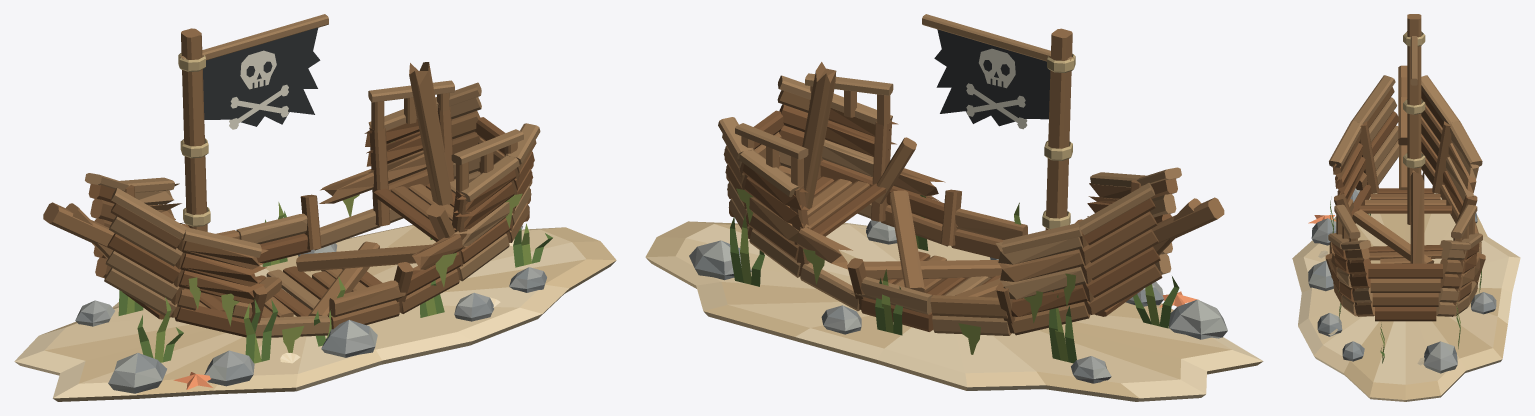
The model's file is PirateShipwreck.fbx.
3 renders of one model, left to right at view 1: azimuth 30°, elevation 25°; view 2: azimuth 150°, elevation 25°; view 3: azimuth 270°, elevation 25°, orthographic. The views are drawn at different scales.
Parts seen in each view (by area): view 1: Shipwreck_Hull, Shipwreck_Sand, Shipwreck_Flag, Shipwreck_Mast, Shipwreck_Rock, Shipwreck_Seaweed, Shipwreck_Moss; view 2: Shipwreck_Hull, Shipwreck_Sand, Shipwreck_Flag, Shipwreck_Mast, Shipwreck_Rock, Shipwreck_Seaweed, Shipwreck_Moss; view 3: Shipwreck_Hull, Shipwreck_Sand, Shipwreck_Mast, Shipwreck_Rock, Shipwreck_Flag, Shipwreck_Seaweed.
Part boxes in pixels (x1,y1,x2,y2): Shipwreck_Hull: (43, 80, 540, 338); Shipwreck_Sand: (14, 225, 616, 401); Shipwreck_Flag: (180, 14, 328, 129); Shipwreck_Mast: (178, 28, 453, 231); Shipwreck_Rock: (75, 225, 546, 393); Shipwreck_Seaweed: (118, 202, 552, 363); Shipwreck_Moss: (188, 141, 522, 352); Shipwreck_Hull: (718, 73, 1224, 335); Shipwreck_Sand: (645, 221, 1263, 401); Shipwreck_Flag: (922, 14, 1073, 129); Shipwreck_Mast: (802, 28, 1075, 229); Shipwreck_Rock: (689, 220, 1227, 383); Shipwreck_Seaweed: (730, 195, 1179, 363); Shipwreck_Moss: (736, 188, 1075, 354); Shipwreck_Hull: (1325, 65, 1485, 321); Shipwreck_Sand: (1292, 193, 1520, 401); Shipwreck_Mast: (1403, 14, 1425, 263); Shipwreck_Rock: (1308, 188, 1496, 373); Shipwreck_Flag: (1410, 36, 1417, 85); Shipwreck_Seaweed: (1330, 198, 1481, 363).
Bounding box in the file's own units: 1302 × 670 × 586.
Materials: 1 (1 with a texture image).
